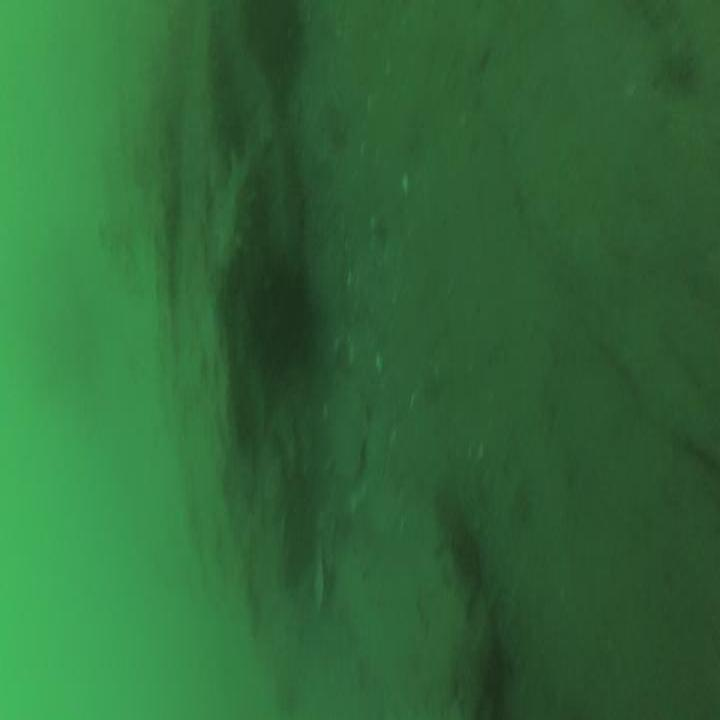echinus: (231, 240, 323, 402)
